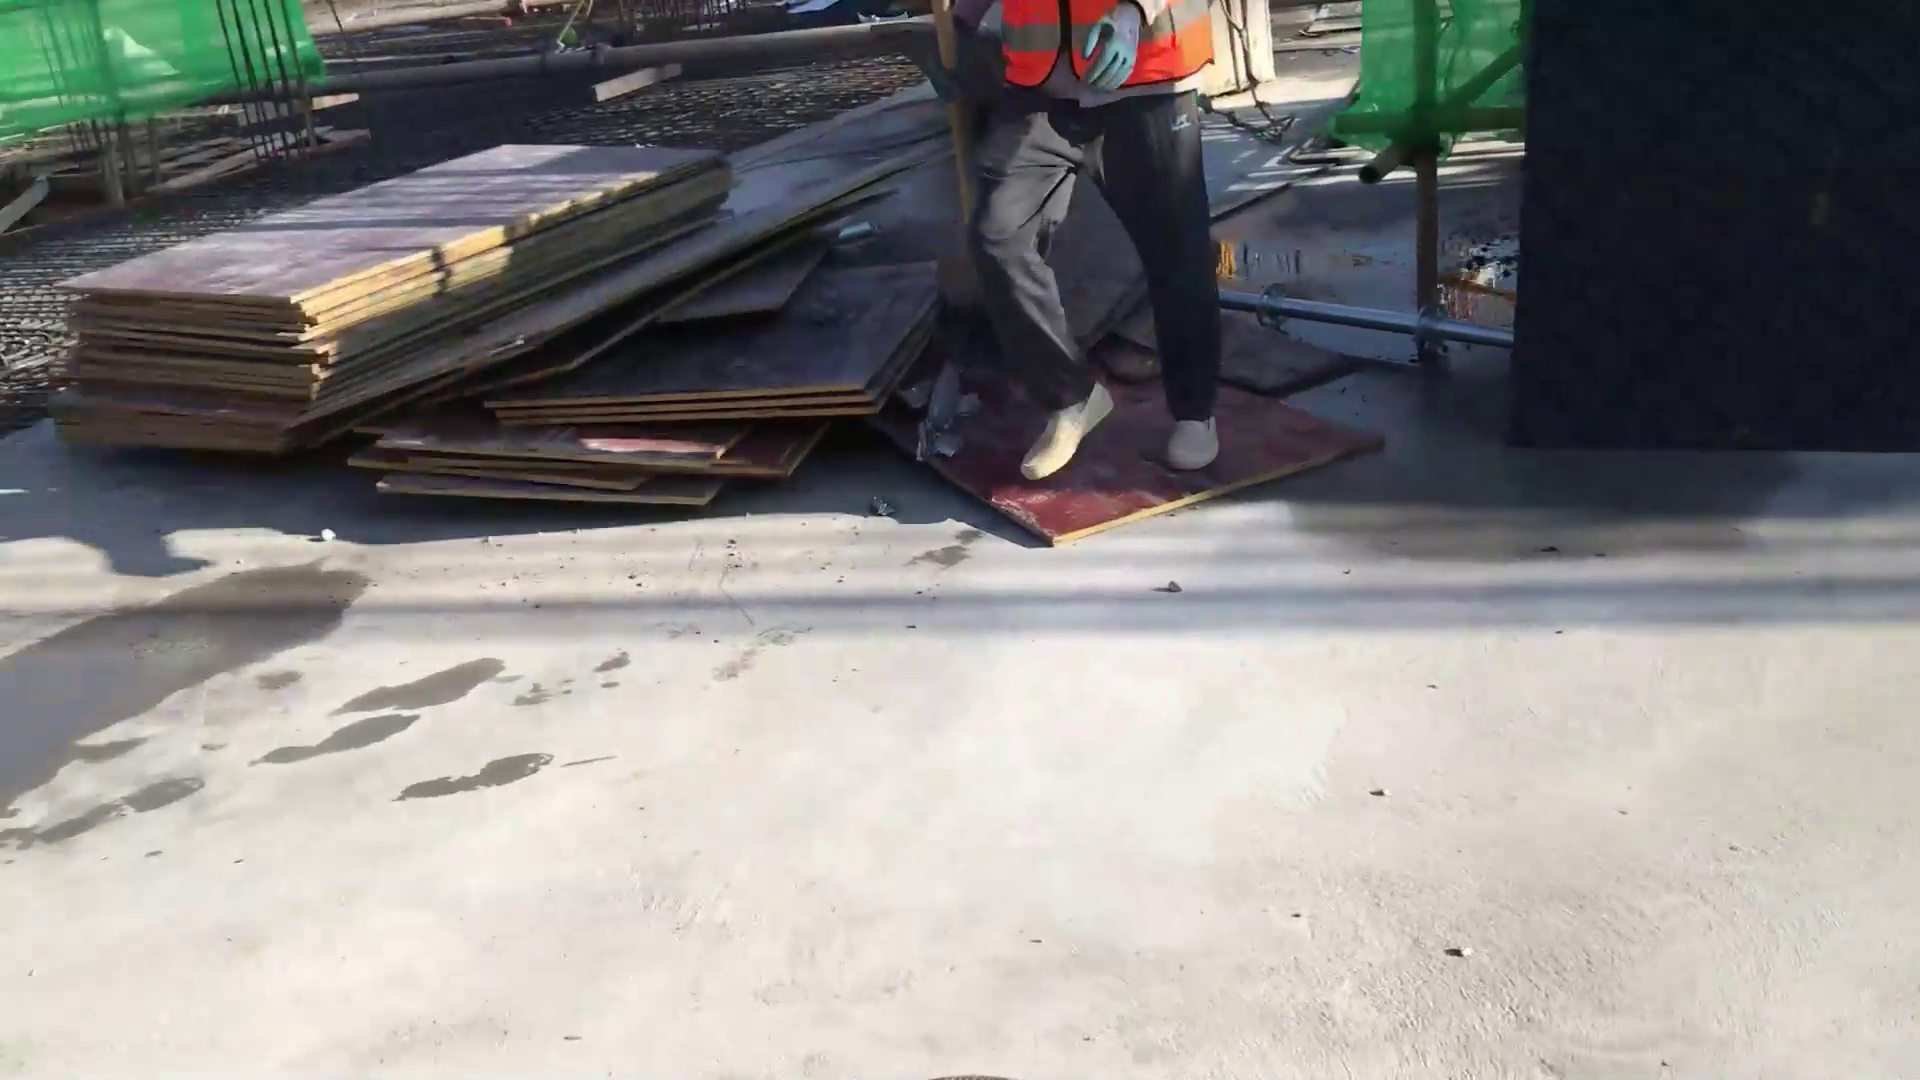board: (40, 107, 922, 536)
person: (959, 1, 1266, 495)
vest: (999, 1, 1233, 113)
